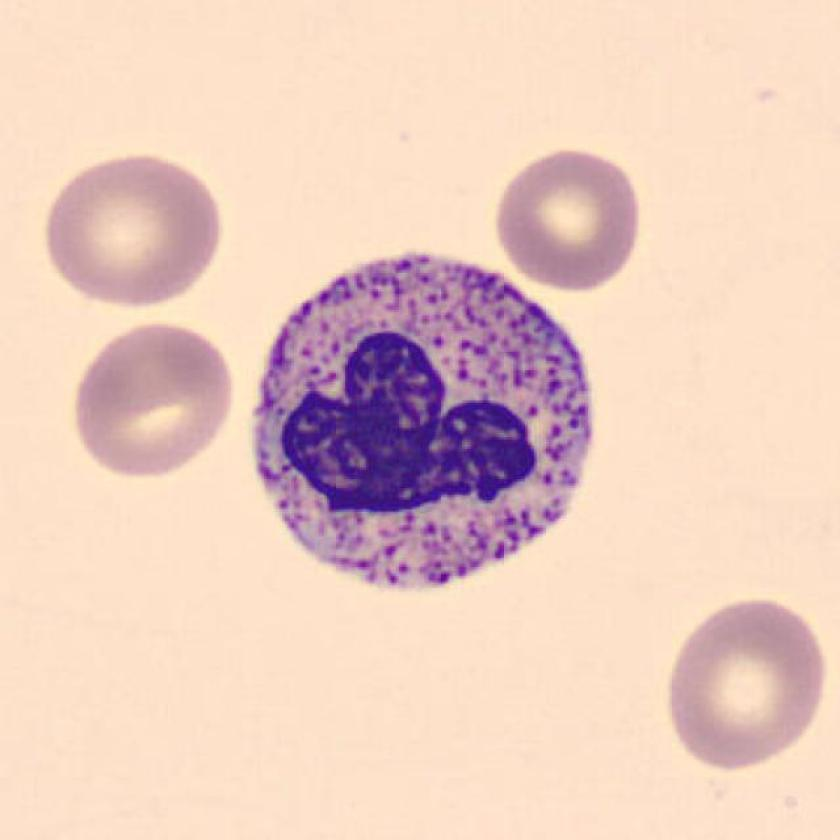neutrophil: (256, 257, 592, 590)
